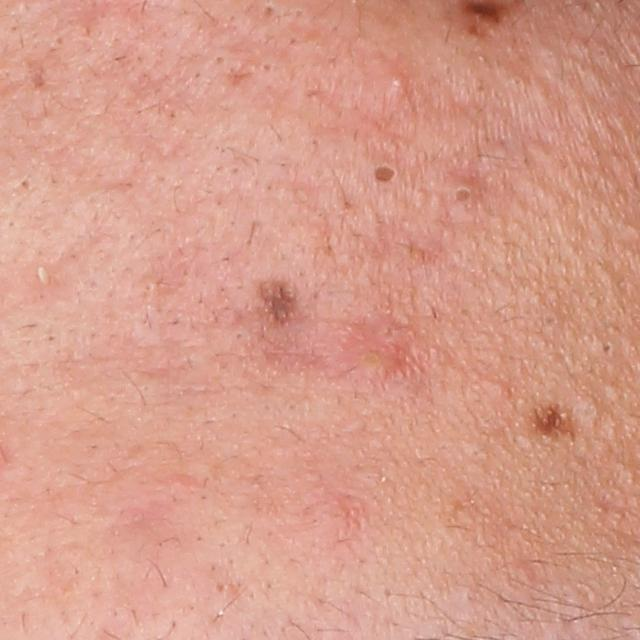comedo: (372, 162, 399, 185), (260, 2, 276, 20), (261, 61, 275, 75), (213, 53, 228, 66), (21, 177, 33, 190)
pustule: (28, 263, 62, 291)
